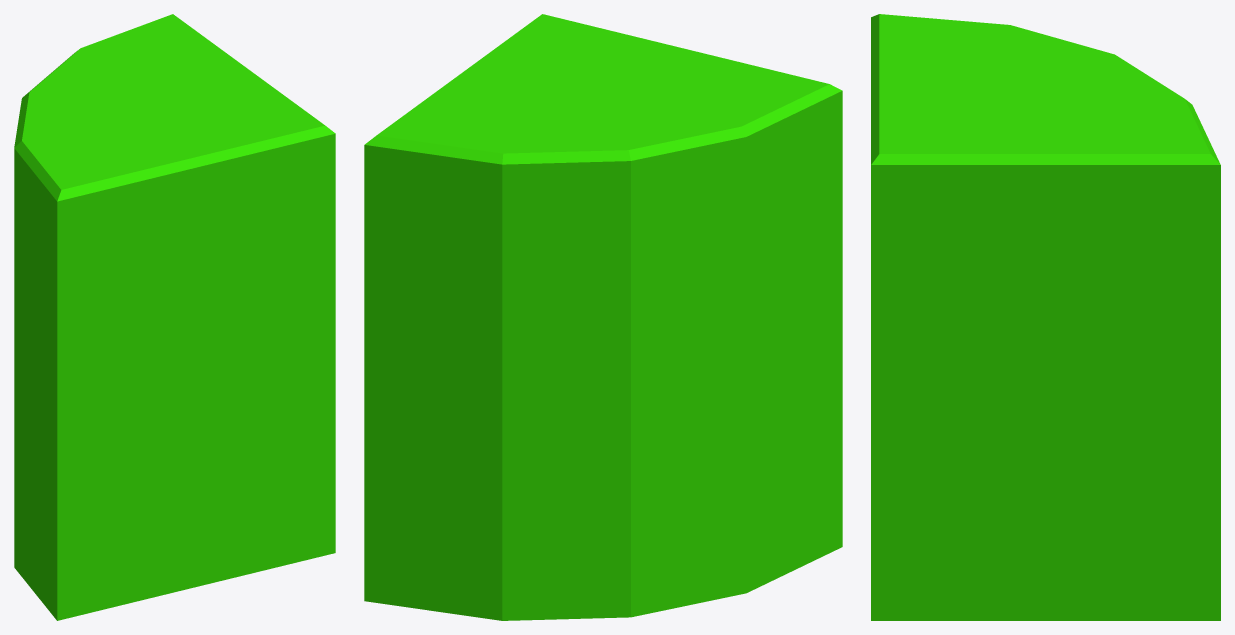
Rendered from round_2x3_02.fbx.
3 views of the same model, side by side, from view 1: azimuth 30°, elevation 25°; view 2: azimuth 150°, elevation 25°; view 3: azimuth 270°, elevation 25° (orthographic). The views are drawn at different scales.
Visible parts, largest first — view 1: round_2x3_02; view 2: round_2x3_02; view 3: round_2x3_02.
Boxes of the visible parts, <box> form: round_2x3_02: <box>14,14,335,620</box>; round_2x3_02: <box>364,14,842,620</box>; round_2x3_02: <box>871,14,1220,620</box>.
Size of the model in its own units: 212 by 310 by 212.
